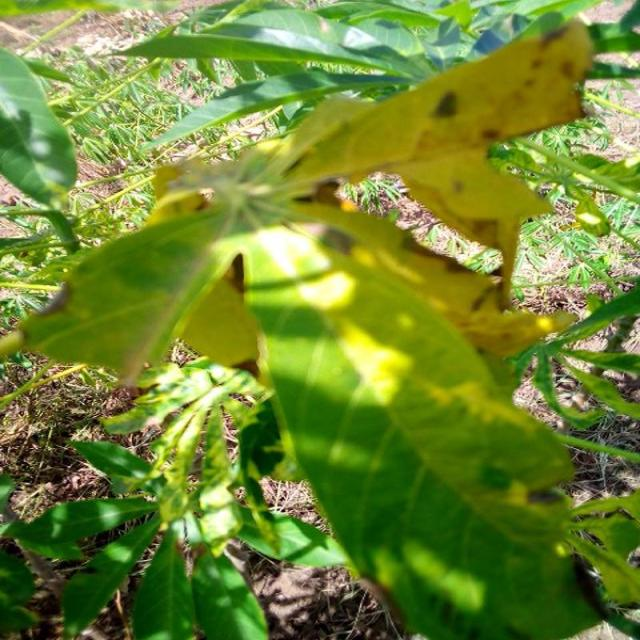cassava leaf: (4, 12, 634, 638)
